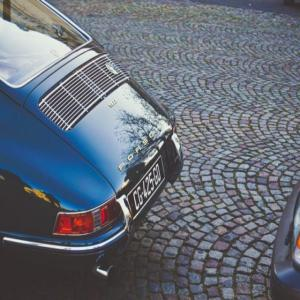Plate: (128, 156, 165, 220)
